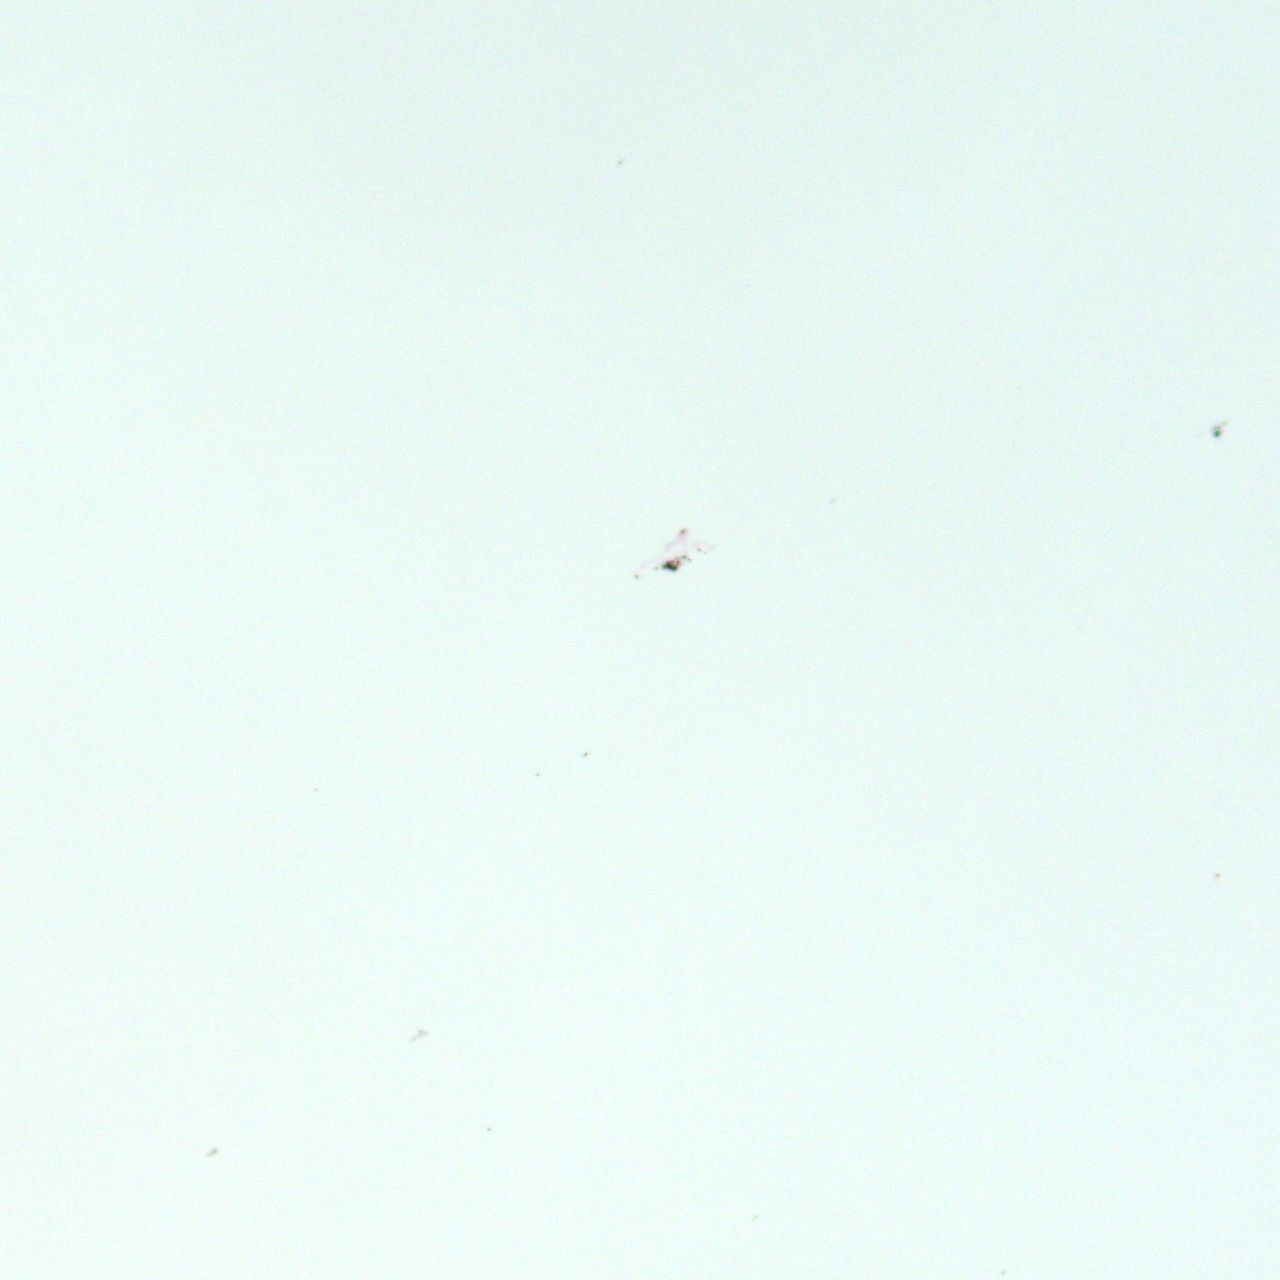dust: (662, 559, 680, 572), (204, 1145, 219, 1158), (1213, 429, 1220, 437), (1215, 872, 1220, 876), (584, 752, 587, 756)
